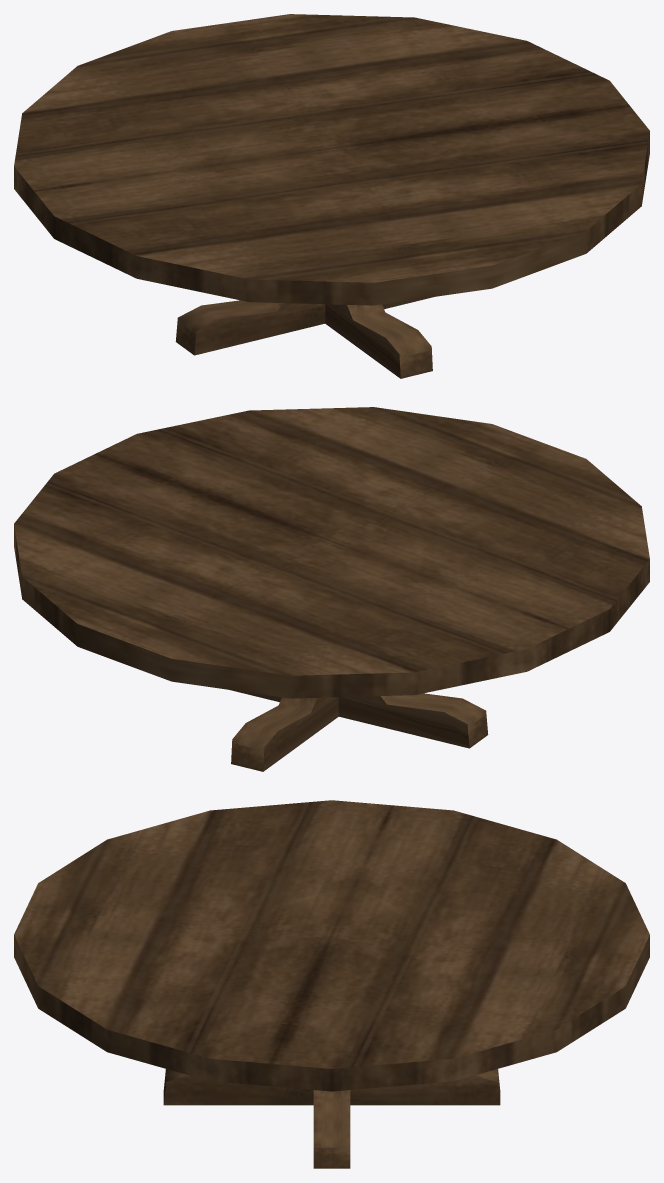
Rendered from table_bar_round.fbx.
3 renders of one model, top to bottom at view 1: azimuth 30°, elevation 25°; view 2: azimuth 150°, elevation 25°; view 3: azimuth 270°, elevation 25°, orthographic.
Visible parts, largest first — view 1: lod_high; view 2: lod_high; view 3: lod_high.
Boxes of the visible parts, x1,y1,x2,y2 form: lod_high: [14, 14, 649, 378]; lod_high: [14, 407, 649, 771]; lod_high: [14, 800, 649, 1168].
Bounding box in the file's own units: 1050 × 297 × 1050.
Materials: 1 (1 with a texture image).
